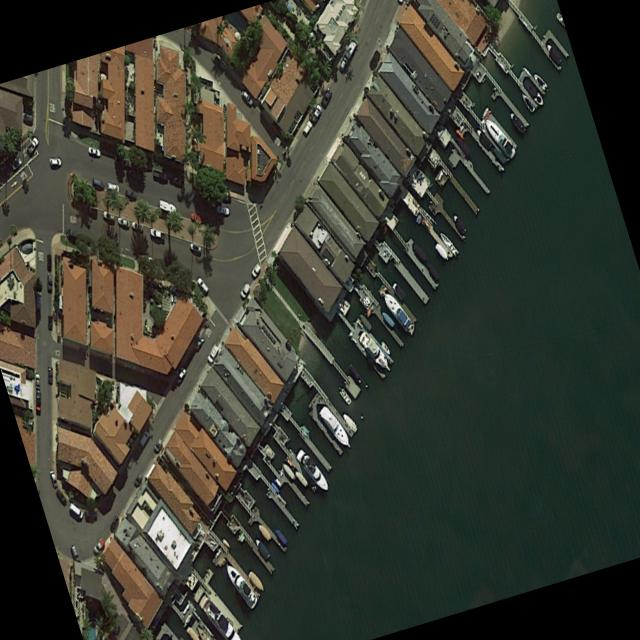large-vehicle: (343, 35, 358, 59)
ship: (294, 444, 332, 495), (201, 596, 243, 640), (223, 559, 258, 609), (319, 403, 353, 451), (359, 329, 393, 376), (483, 114, 516, 159), (382, 289, 412, 332), (523, 76, 545, 108), (439, 230, 458, 257), (410, 239, 429, 264), (509, 109, 527, 134), (247, 569, 265, 593), (545, 41, 562, 64), (475, 126, 492, 149), (254, 535, 270, 559), (342, 409, 358, 433), (455, 134, 471, 156), (434, 241, 450, 262), (520, 91, 535, 113), (281, 460, 296, 481), (491, 145, 506, 166), (358, 311, 373, 331), (426, 261, 440, 282), (294, 468, 308, 488), (381, 308, 395, 328), (452, 213, 466, 233), (195, 623, 211, 640), (257, 522, 271, 541), (533, 71, 547, 90), (338, 386, 352, 405), (392, 281, 406, 300), (186, 624, 202, 640), (274, 526, 287, 545), (380, 340, 392, 356)
small-vehicle: (308, 102, 323, 123), (207, 342, 220, 363), (68, 501, 83, 519), (240, 88, 254, 107), (369, 48, 381, 70), (321, 85, 333, 107), (174, 363, 187, 383), (159, 198, 176, 213), (26, 135, 39, 154), (196, 275, 209, 293), (93, 535, 105, 554), (301, 117, 313, 136), (138, 428, 150, 447), (149, 226, 165, 240), (69, 543, 80, 561), (10, 155, 22, 170), (240, 280, 250, 298), (338, 54, 348, 72), (194, 334, 205, 350), (56, 487, 67, 503), (109, 514, 119, 531), (93, 175, 104, 190), (49, 469, 58, 487), (133, 471, 143, 487), (153, 437, 163, 453), (251, 262, 261, 278), (191, 211, 203, 224), (107, 181, 119, 194), (88, 146, 101, 157), (125, 188, 137, 199), (36, 388, 42, 410), (103, 209, 114, 221), (117, 216, 129, 227), (190, 241, 201, 253), (217, 204, 229, 215), (49, 156, 62, 166), (131, 221, 143, 231), (20, 112, 33, 121), (34, 371, 40, 389), (84, 510, 97, 518), (47, 313, 53, 329), (47, 272, 52, 290), (48, 365, 53, 383), (47, 253, 52, 269)
